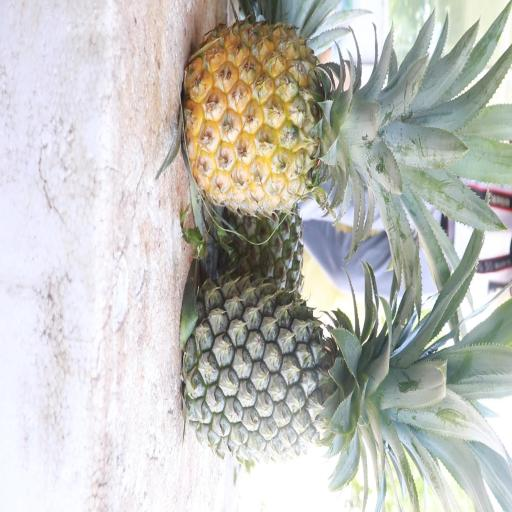Pineapple - v8 v1: (178, 18, 432, 222)
